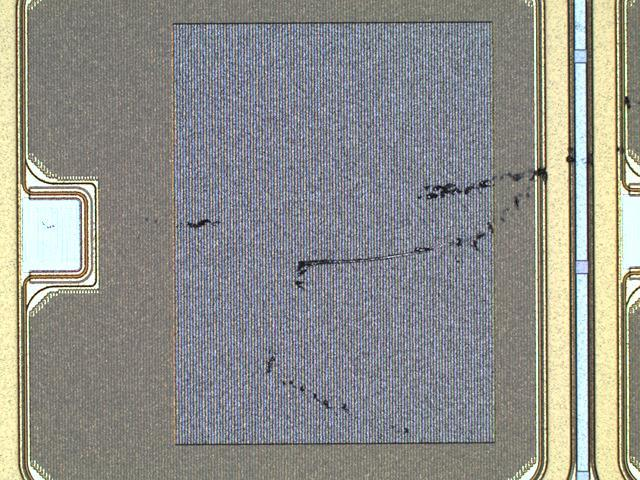SCRATCH: (34, 88, 640, 449)
